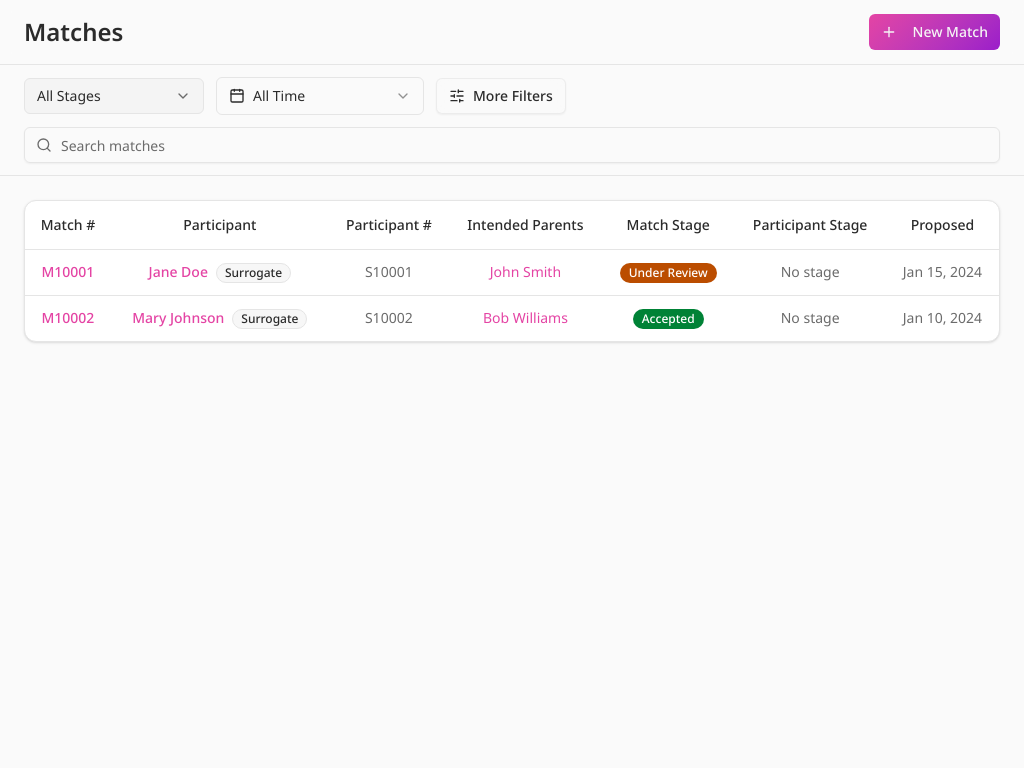
Test: MatchesPage › moves Kind into More Filters
The width and height of the screenshot is (1024, 768).
Click the button "More Filters" at (501, 96), box x1=436 y1=78 x2=566 y2=114
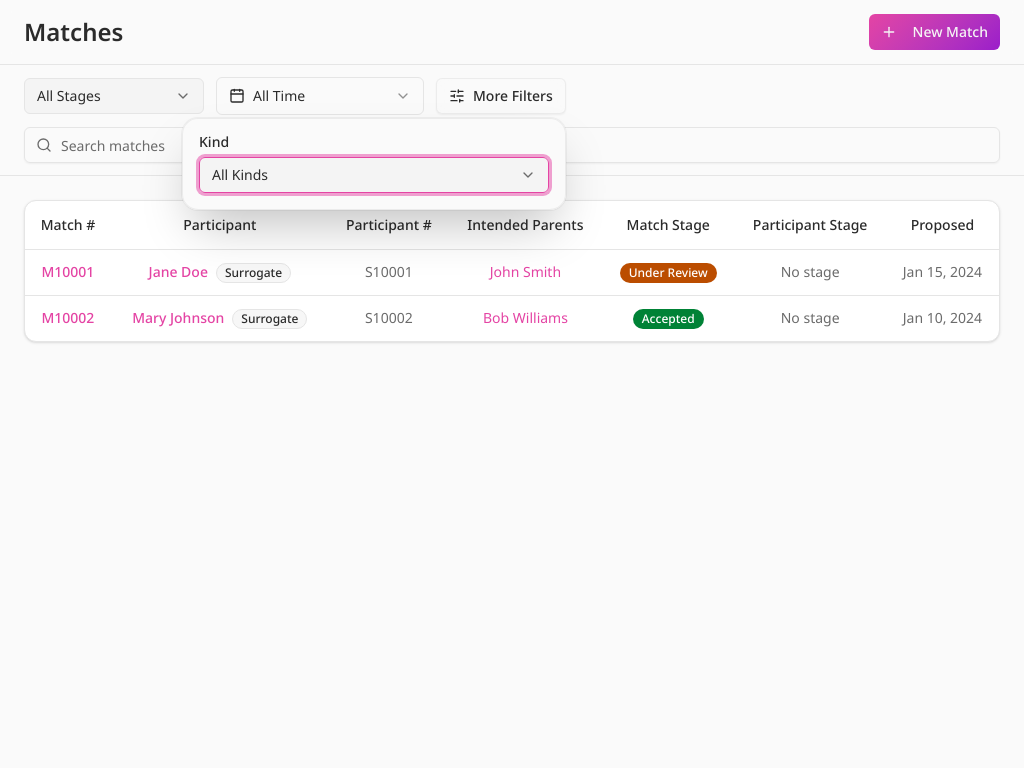
Expected: the dropdown named "Filter by kind" shows "All Kinds", x1=199 y1=157 x2=549 y2=193
